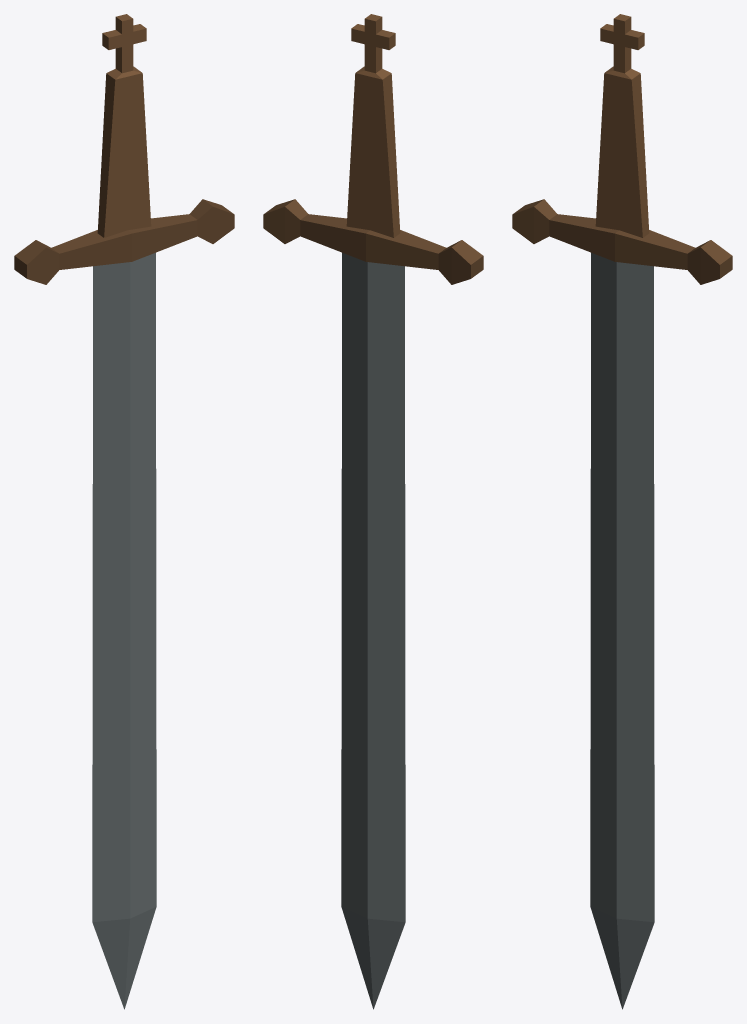
The model's file is Sword_4_Brown.fbx.
The picture shows the model from 3 angles, left to right: view 1: azimuth 30°, elevation 25°; view 2: azimuth 150°, elevation 25°; view 3: azimuth 330°, elevation 25°; orthographic projection.
Visible parts, largest first — view 1: Sword_4_Brown_Part_1, Sword_4_Brown_Part_3, Sword_4_Brown_Part_2; view 2: Sword_4_Brown_Part_1, Sword_4_Brown_Part_3, Sword_4_Brown_Part_2; view 3: Sword_4_Brown_Part_1, Sword_4_Brown_Part_3, Sword_4_Brown_Part_2.
Part boxes in pixels (x1,y1,x2,y2): Sword_4_Brown_Part_1: [92, 252, 156, 1009]; Sword_4_Brown_Part_3: [97, 14, 151, 237]; Sword_4_Brown_Part_2: [14, 199, 234, 284]; Sword_4_Brown_Part_1: [341, 252, 405, 1009]; Sword_4_Brown_Part_3: [346, 14, 400, 237]; Sword_4_Brown_Part_2: [263, 199, 483, 284]; Sword_4_Brown_Part_1: [590, 252, 654, 1009]; Sword_4_Brown_Part_3: [595, 14, 649, 237]; Sword_4_Brown_Part_2: [512, 199, 732, 284].
Size of the model in its own units: 26.19 by 120 by 3.34.
